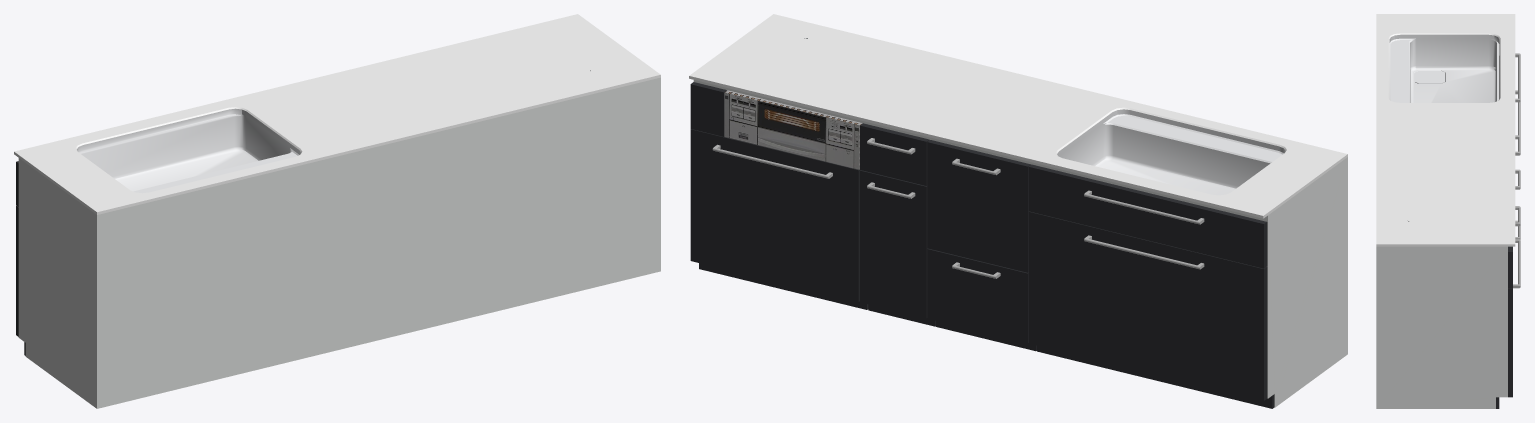
The model's file is SM_Kitchen_1.fbx.
3 views of the same model, side by side, from view 1: azimuth 30°, elevation 25°; view 2: azimuth 150°, elevation 25°; view 3: azimuth 270°, elevation 25° (orthographic). The views are drawn at different scales.
Visible parts, largest first — view 1: GDLM1217_GDLM935_mLayer59_149, GDLM1216_GDLM932_mLayer58_147, GDLM1215_GDLM929_mLayer57_145; view 2: GDLM1265_GDLM1077_mLayer56_239, GDLM1216_GDLM932_mLayer58_147, GDLM1217_GDLM935_mLayer59_149, GDLM1215_GDLM929_mLayer57_145, GDLM1218_GDLM938_mLayer60_151; view 3: GDLM1216_GDLM932_mLayer58_147, GDLM1217_GDLM935_mLayer59_149, GDLM1215_GDLM929_mLayer57_145, GDLM1265_GDLM1077_mLayer56_239, GDLM1221_GDLM948_mLayer55_157.001, GDLM1221_GDLM948_mLayer55_157.002.
Part boxes in pixels (left/top/right/bottom): GDLM1217_GDLM935_mLayer59_149: left=18, top=77, right=660, bottom=408; GDLM1216_GDLM932_mLayer58_147: left=14, top=14, right=660, bottom=214; GDLM1215_GDLM929_mLayer57_145: left=77, top=108, right=300, bottom=193; GDLM1265_GDLM1077_mLayer56_239: left=690, top=82, right=1274, bottom=408; GDLM1216_GDLM932_mLayer58_147: left=689, top=14, right=1347, bottom=218; GDLM1217_GDLM935_mLayer59_149: left=693, top=80, right=1347, bottom=407; GDLM1215_GDLM929_mLayer57_145: left=1057, top=109, right=1285, bottom=195; GDLM1218_GDLM938_mLayer60_151: left=724, top=90, right=862, bottom=169; GDLM1216_GDLM932_mLayer58_147: left=1376, top=14, right=1515, bottom=246; GDLM1217_GDLM935_mLayer59_149: left=1376, top=246, right=1507, bottom=408; GDLM1215_GDLM929_mLayer57_145: left=1389, top=34, right=1499, bottom=102; GDLM1265_GDLM1077_mLayer56_239: left=1496, top=246, right=1512, bottom=408; GDLM1221_GDLM948_mLayer55_157.001: left=1513, top=239, right=1520, bottom=288; GDLM1221_GDLM948_mLayer55_157.002: left=1515, top=53, right=1520, bottom=102.
Size of the model in its own units: 2.55 by 0.863 by 0.6746.
7 materials, 7 textured.
